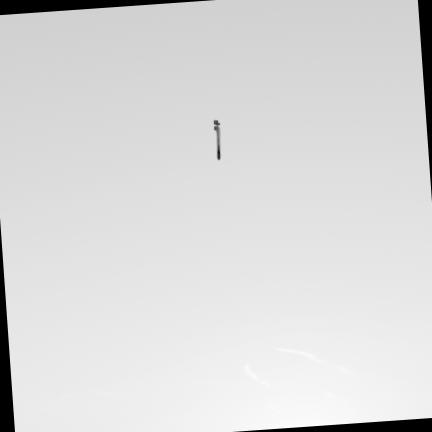Shahed: (213, 120, 219, 159)
